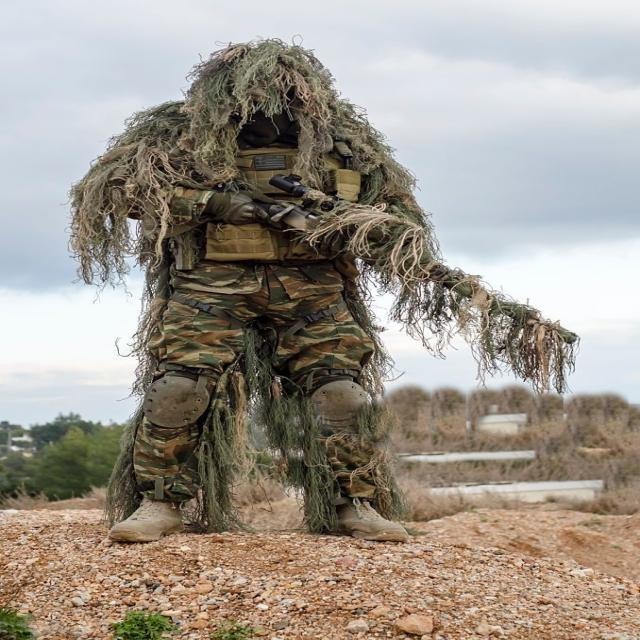Human: (66, 36, 578, 541)
